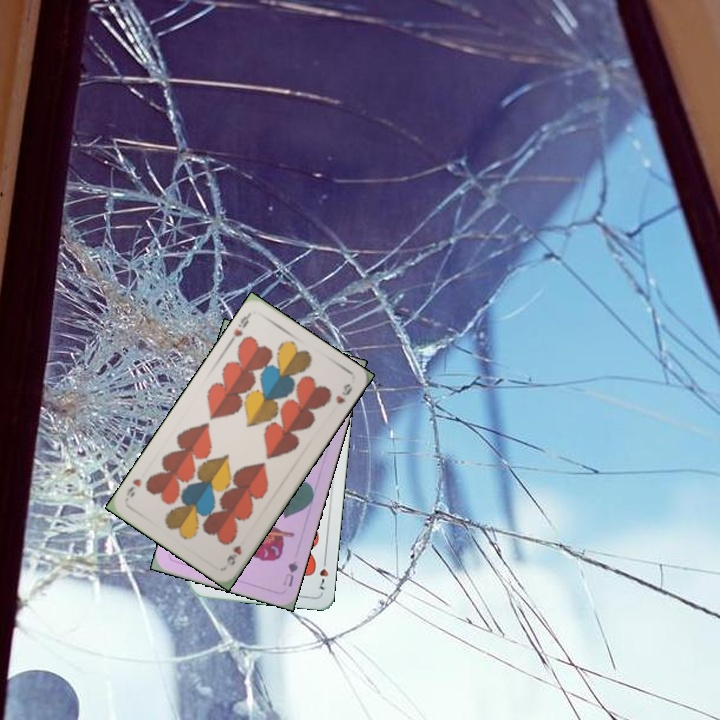GU: (279, 557, 300, 589)
H7: (314, 553, 331, 592)
H9: (226, 309, 254, 345), (222, 541, 244, 568)
